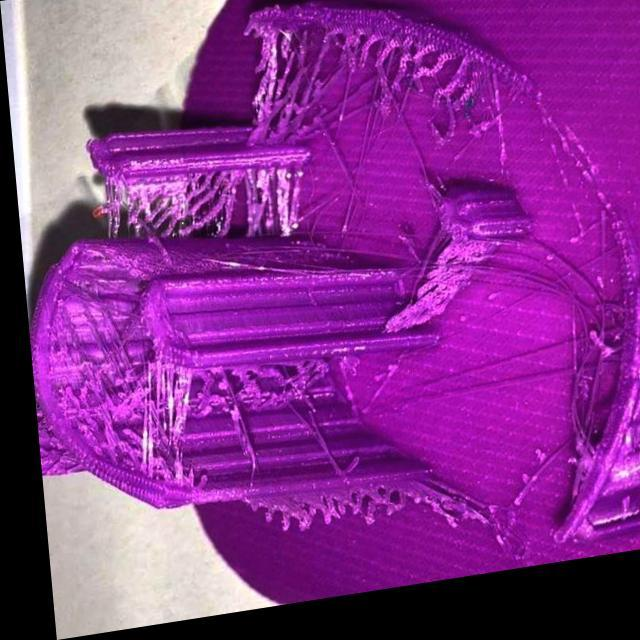stringing: (107, 174, 200, 248), (204, 168, 294, 242), (125, 360, 184, 470), (246, 34, 296, 140), (559, 304, 606, 416), (336, 30, 404, 90), (403, 53, 450, 103)
